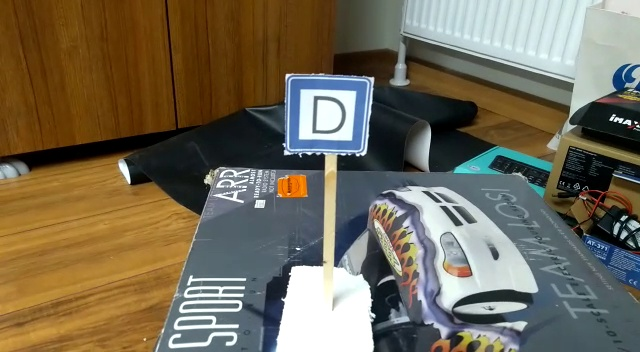durak: (281, 73, 376, 168)
